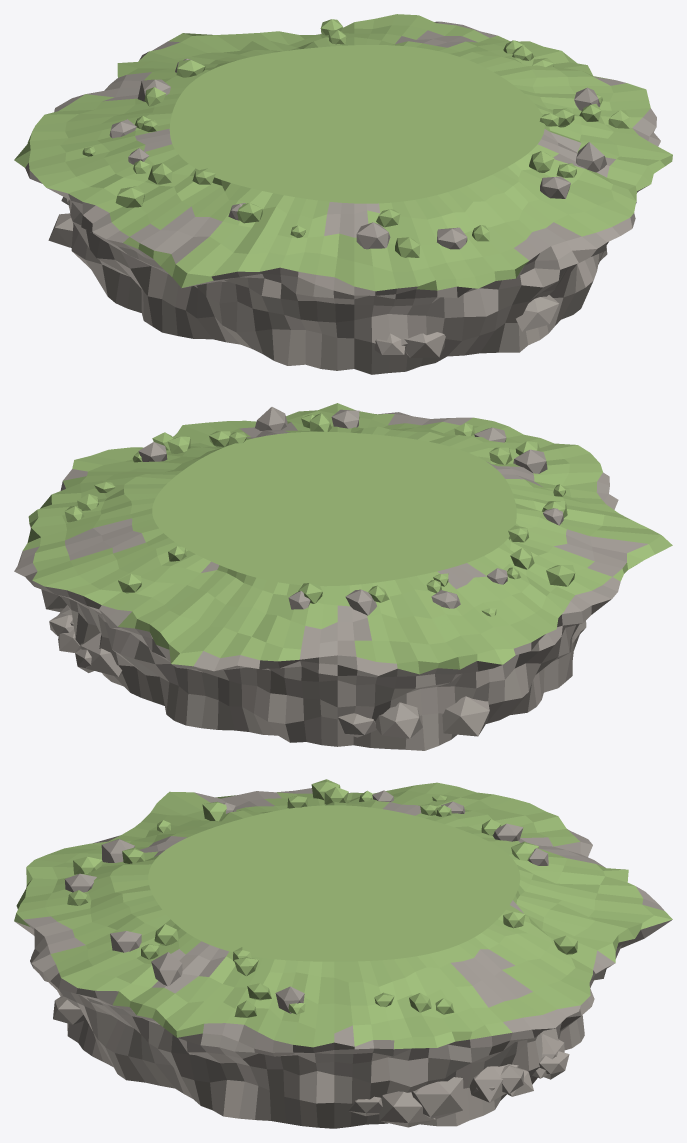
Rendered from DreadholdIsland.fbx.
The picture shows the model from 3 angles, top to bottom: view 1: azimuth 30°, elevation 25°; view 2: azimuth 150°, elevation 25°; view 3: azimuth 270°, elevation 25°; orthographic projection. The views are drawn at different scales.
Visible parts, largest first — view 1: Island; view 2: Island; view 3: Island.
Part boxes in pixels (left/top/right/bottom): Island: left=14, top=14, right=672, bottom=374; Island: left=14, top=403, right=672, bottom=750; Island: left=14, top=779, right=672, bottom=1128.
Size of the model in its own units: 54.63 by 13.98 by 56.94.
